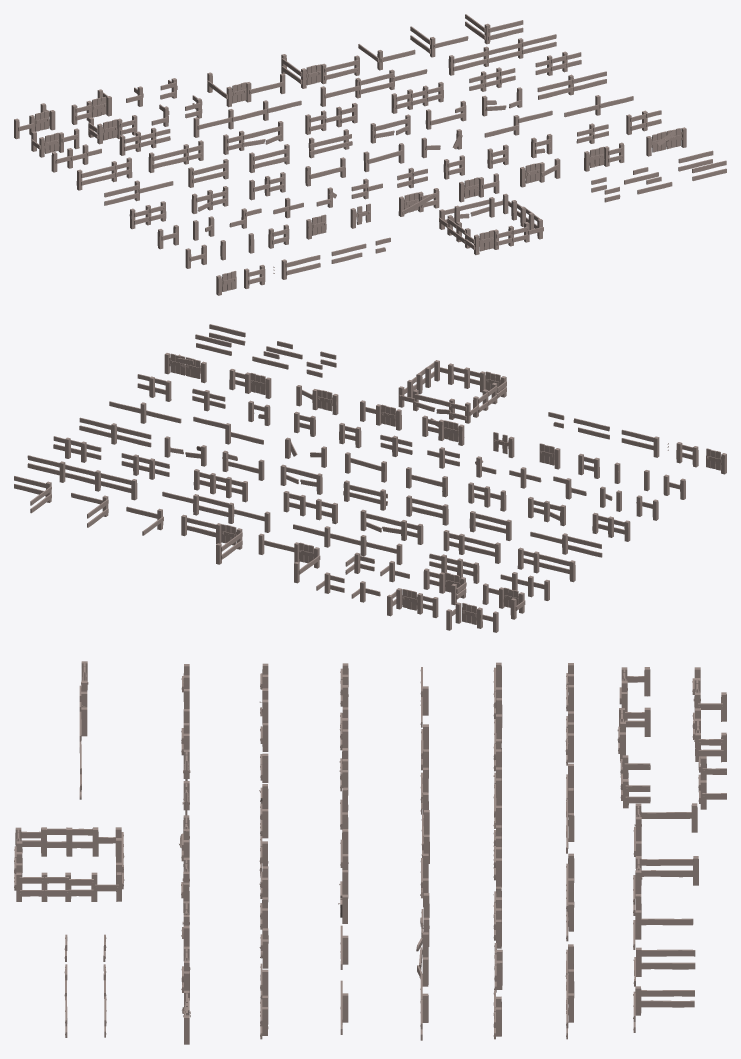
File: StylizedModularFence_Unity.fbx
3 renders of one model, top to bottom at view 1: azimuth 30°, elevation 25°; view 2: azimuth 150°, elevation 25°; view 3: azimuth 270°, elevation 25°, orthographic. The views are drawn at different scales.
Parts seen in each view (by area): view 1: Fence_Demo, Fence_6_5_WallLong, Fence_6_4_WallLong, Fence_7_10_AngleLong, Fence_6_3_WallLong, Fence_5_3_WallBroken, Fence_5_5_WallShort, Fence_4_8_WallLongOpen, Fence_1_9_BoardedUpDoor, Fence_5_1_WallMix, Fence_5_2_WallMix, Fence_5_4_WallShort (+25 smaller); view 2: Fence_Demo, Fence_6_5_WallLong, Fence_6_4_WallLong, Fence_7_10_AngleLong, Fence_6_3_WallLong, Fence_5_3_WallBroken, Fence_4_8_WallLongOpen, Fence_1_9_BoardedUpDoor, Fence_5_1_WallMix, Fence_5_5_WallShort, Fence_5_2_WallMix, Fence_5_4_WallShort (+23 smaller); view 3: Fence_Demo, Fence_7_10_AngleLong, Fence_7_12_AngleLongWall, Fence_7_13_AngleLongWall, Fence_7_9_AngleLong, Fence_7_4_AngleShort, Fence_7_2_AngleShort, Fence_6_5_WallLong, Fence_6_4_WallLong, Fence_7_11_AngleLongWall, Fence_6_3_WallLong, Fence_7_1_AngleShort (+1 smaller).
Part boxes in pixels (x1,y1,x2,y2): Fence_Demo: (439,193,543,254); Fence_6_5_WallLong: (448,34,556,75); Fence_6_4_WallLong: (320,69,427,106); Fence_7_10_AngleLong: (281,54,359,88); Fence_6_3_WallLong: (193,100,301,137); Fence_5_3_WallBroken: (223,121,283,154); Fence_5_5_WallShort: (391,82,443,113); Fence_4_8_WallLongOpen: (537,71,606,99); Fence_1_9_BoardedUpDoor: (646,127,686,156); Fence_5_1_WallMix: (76,157,132,190); Fence_5_2_WallMix: (148,140,203,172); Fence_5_4_WallShort: (305,103,357,134); Fence_Demo: (398,360,506,423); Fence_6_5_WallLong: (27,455,137,500); Fence_6_4_WallLong: (162,491,270,532); Fence_7_10_AngleLong: (181,514,242,564); Fence_6_3_WallLong: (293,524,402,564); Fence_5_3_WallBroken: (360,509,423,544); Fence_4_8_WallLongOpen: (79,417,151,447); Fence_1_9_BoardedUpDoor: (164,353,206,383); Fence_5_1_WallMix: (517,547,575,582); Fence_5_5_WallShort: (193,469,247,502); Fence_5_2_WallMix: (443,530,500,563); Fence_5_4_WallShort: (283,491,337,524); Fence_Demo: (14,827,124,901); Fence_7_10_AngleLong: (633,856,698,918); Fence_7_12_AngleLongWall: (633,947,695,986); Fence_7_13_AngleLongWall: (633,986,694,1032); Fence_7_9_AngleLong: (633,803,697,868); Fence_7_4_AngleShort: (692,708,726,762); Fence_7_2_AngleShort: (617,707,650,761); Fence_6_5_WallLong: (565,944,574,1039); Fence_6_4_WallLong: (566,853,574,941); Fence_7_11_AngleLongWall: (633,910,693,949); Fence_6_3_WallLong: (566,763,574,853); Fence_7_1_AngleShort: (619,667,650,720).
Bounding box in the file's own units: 1314 × 1105 × 49.31.
